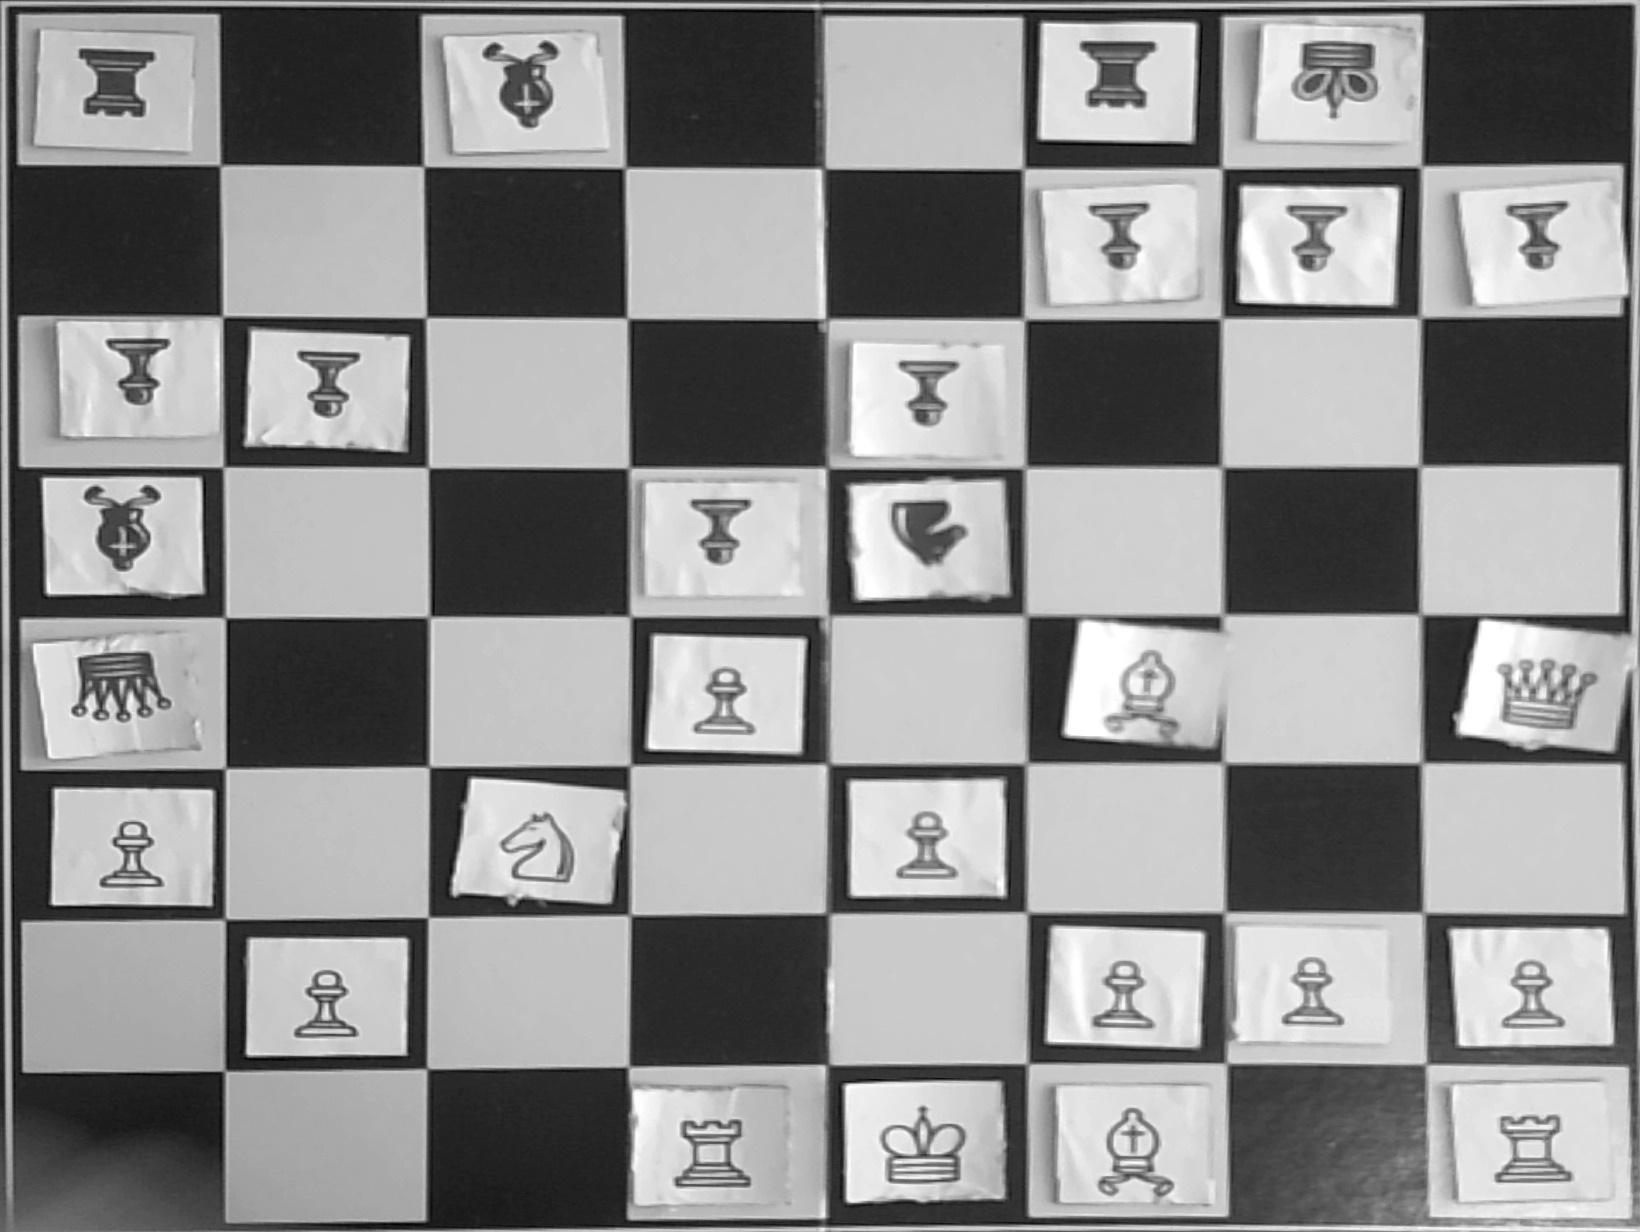b_bishop: (49, 479, 195, 589), (447, 38, 592, 148)
b_king: (1265, 30, 1390, 140)
b_knight: (863, 489, 988, 590)
b_pawn: (858, 348, 982, 452), (656, 490, 781, 594)
b_queen: (54, 646, 185, 742)
b_rook: (1045, 23, 1179, 126), (43, 38, 176, 138)
w_bishop: (1067, 1097, 1188, 1202), (1082, 630, 1202, 734)
w_king: (854, 1084, 977, 1194)
w_knight: (483, 793, 607, 890)
w_pawn: (1247, 934, 1368, 1034), (1056, 942, 1179, 1040)
w_queen: (1489, 635, 1604, 743)
w_rook: (654, 1100, 773, 1206), (1470, 1090, 1590, 1194)
